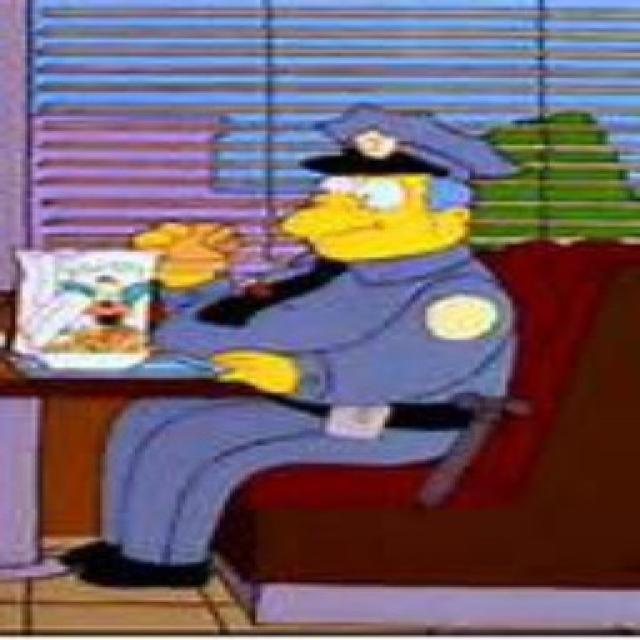Chief Wiggam: (279, 103, 536, 264)
